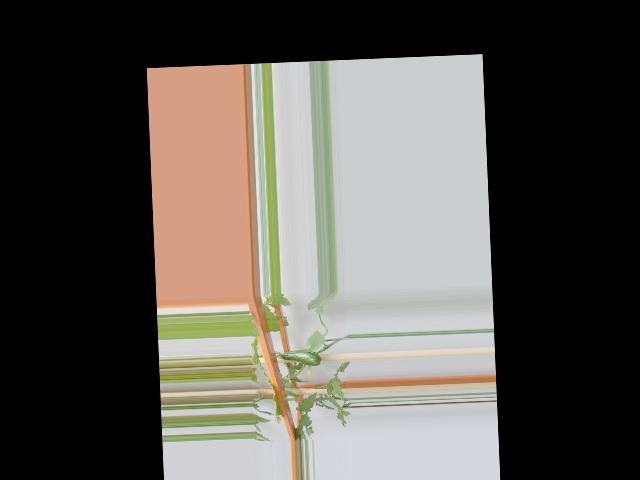cucumber: (282, 348, 325, 367)
